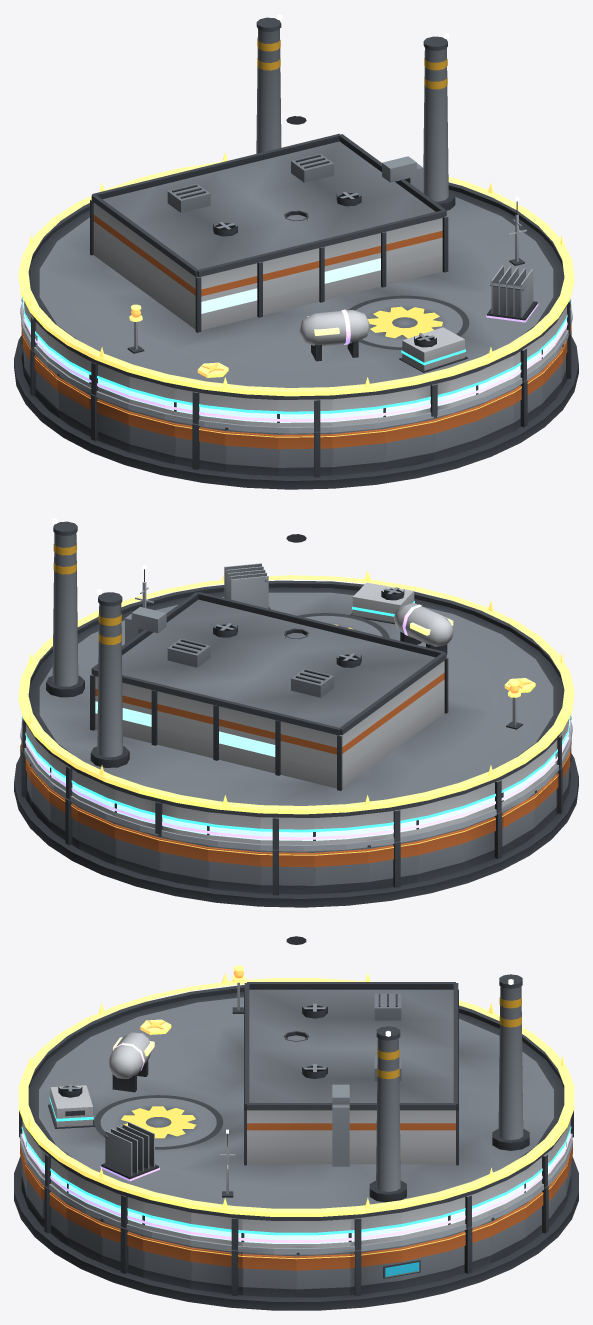
File: electronics_fab_m.glb
3 renders of one model, top to bottom at view 1: azimuth 30°, elevation 25°; view 2: azimuth 150°, elevation 25°; view 3: azimuth 270°, elevation 25°, orthographic.
Parts seen in each view (by area): view 1: Roof, Base, L4, Wall_21, Wall_20, Wall_22, Wall_19, Wall_23, L3, Wall_18, Wall_24, Wall_17 (+20 smaller); view 2: Roof, Base, L4, Wall_10, Wall_11, Wall_09, Wall_12, Wall_08, Wall_13, Wall_07, L3, Wall_14 (+25 smaller); view 3: Roof, Base, L4, Wall_31, Wall_00, Wall_30, Wall_29, Wall_01, Wall_02, Wall_28, Wall_03, L3 (+24 smaller).
Boxes of the visible parts, box(x1,y1,x2,y2) form: Roof: box(28, 14, 567, 399); Base: box(14, 335, 578, 489); L4: box(299, 265, 538, 361); Wall_21: box(278, 431, 332, 477); Wall_20: box(225, 427, 278, 475); Wall_22: box(332, 427, 384, 475); Wall_19: box(174, 421, 225, 471); Wall_23: box(384, 418, 434, 469); L3: box(399, 327, 468, 372); Wall_18: box(128, 410, 175, 463); Wall_24: box(433, 405, 478, 460); Wall_17: box(89, 394, 129, 452); Roof: box(25, 518, 564, 817); Base: box(14, 753, 578, 907); L4: box(224, 563, 453, 654); Wall_10: box(260, 849, 314, 895); Wall_11: box(314, 847, 367, 893); Wall_09: box(208, 845, 260, 893); Wall_12: box(367, 839, 418, 889); Wall_08: box(158, 834, 208, 887); Wall_13: box(417, 828, 464, 881); Wall_07: box(114, 823, 159, 878); L3: box(350, 582, 414, 624); Wall_14: box(463, 812, 503, 870); Roof: box(25, 936, 567, 1220); Base: box(14, 1156, 578, 1310); L4: box(100, 1032, 159, 1181); Wall_31: box(242, 1252, 296, 1297); Wall_00: box(296, 1252, 350, 1297); Wall_30: box(190, 1246, 242, 1296); Wall_29: box(142, 1235, 191, 1288); Wall_01: box(350, 1246, 402, 1296); Wall_02: box(401, 1235, 450, 1288); Wall_28: box(101, 1218, 143, 1277); Wall_03: box(449, 1221, 491, 1277); L3: box(48, 1084, 94, 1128).
Size of the model in its own units: 14.75 by 7.39 by 14.75.
